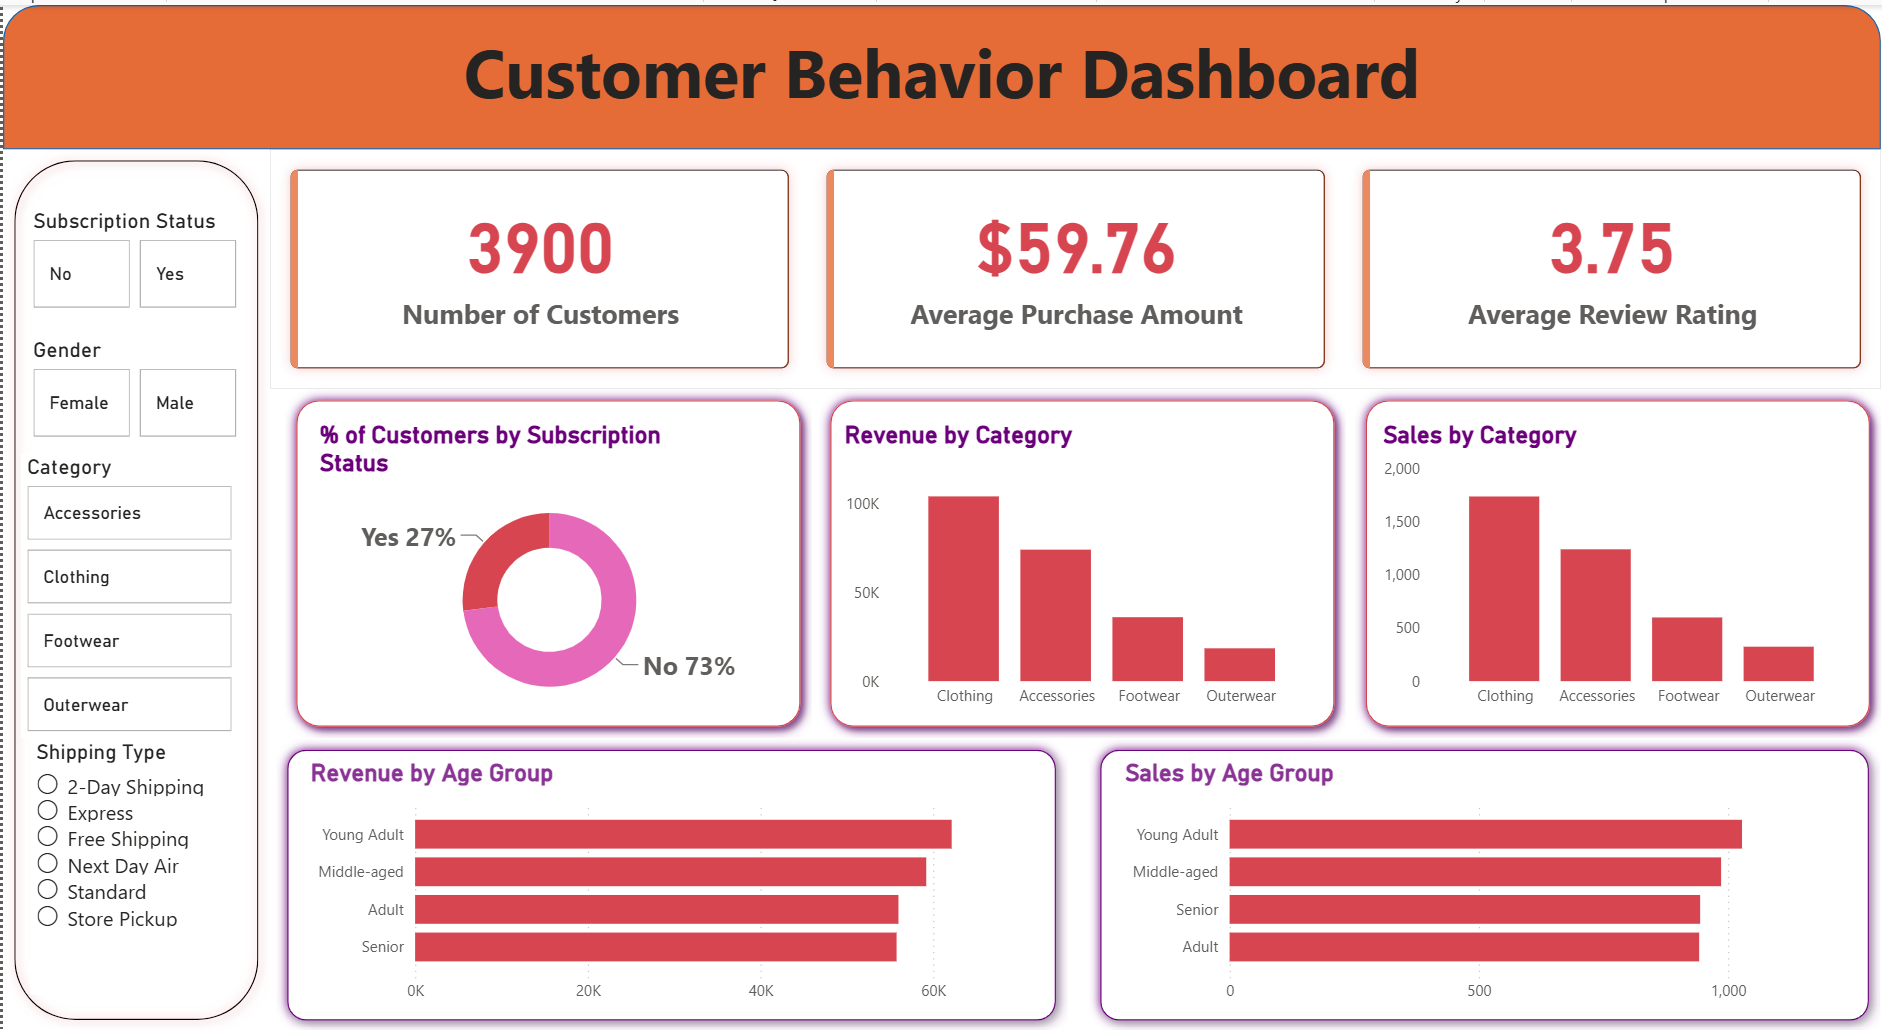

What the dashboard file says about the page in this screenshot:
{"tool":"powerbi","page":{"name":"Page 1","canvas":[1500,820],"ordinal":0},"visuals":[{"type":"cardVisual","fields":{"Data":["public customer.Number of Customers","public customer.Average Purchase Amount","public customer.Average Review Rating"]},"box":[212.9,115.3,1286.5,191.6],"z":2000},{"type":"shape","box":[218.3,585.6,631.7,234.2],"z":2500,"group":"g1"},{"type":"shape","box":[0,0,1499.4,115.3],"z":3000},{"type":"textbox","box":[0,12.4,1499.4,102.9],"z":4000},{"type":"shape","box":[225.4,307,420.5,278.6],"z":5000},{"type":"donutChart","title":"% of Customers by Subscription Status","fields":{"Category":["public customer.subscription_status"],"Y":["CountNonNull(public customer.customer_id)"]},"box":[248.4,331.8,376.2,237.8],"z":6000},{"type":"shape","box":[1078.9,307,420.5,278.6],"z":7000},{"type":"shape","box":[652.1,307,420.5,278.6],"z":8000},{"type":"clusteredColumnChart","title":"Revenue by Category","fields":{"Category":["public customer.category"],"Y":["Sum(public customer.purchase_amount)"]},"box":[667.2,331.8,385.1,237.8],"z":9000},{"type":"clusteredColumnChart","title":"Sales by Category","fields":{"Category":["public customer.category"],"Y":["CountNonNull(public customer.customer_id)"]},"box":[1096.6,331.8,385.1,237.8],"z":10000},{"type":"shape","box":[0,115.3,212.9,704.5],"z":11000},{"type":"advancedSlicerVisual","fields":{"Values":["public customer.subscription_status"]},"box":[19.5,161.5,173.9,85.2],"z":12000},{"type":"advancedSlicerVisual","fields":{"Values":["public customer.gender"]},"box":[19.5,264.4,173.9,85.2],"z":13000},{"type":"advancedSlicerVisual","fields":{"Values":["public customer.category"]},"box":[14.4,358.1,173.7,227.6],"z":14000},{"type":"listSlicer","fields":{"Values":["public customer.shipping_type"]},"box":[21.6,585.7,160.5,204.8],"z":15000},{"type":"shape","box":[867.7,585.6,631.7,234.2],"z":16000},{"type":"clusteredBarChart","title":"Sales by Age Group","fields":{"Category":["public customer.age_group"],"Y":["CountNonNull(public customer.customer_id)"]},"box":[890.8,601.5,585.6,204.1],"z":17000},{"type":"clusteredBarChart","title":"Revenue by Age Group","fields":{"Category":["public customer.age_group"],"Y":["Sum(public customer.purchase_amount)"]},"box":[241.4,601.6,585.6,204.1],"z":17500,"group":"g1"},{"type":"group","id":"g1","title":"Group 1","box":[218.3,585.6,631.7,234.2],"z":17501}]}

Visuals, with their boxes in screenshot pixels (x1, y1, x2, y2), scaled from the page's 1500x820 canvas onto the 1882x1030 screenshot:
cardVisual - public customer.Number of Customers x public customer.Average Purchase Amount: locate(267, 145, 1881, 385)
shape: locate(274, 736, 1066, 1029)
shape: locate(0, 0, 1881, 145)
textbox: locate(0, 16, 1881, 145)
shape: locate(283, 386, 810, 736)
"% of Customers by Subscription Status" donutChart: locate(312, 417, 784, 715)
shape: locate(1354, 386, 1881, 736)
shape: locate(818, 386, 1346, 736)
"Revenue by Category" clusteredColumnChart: locate(837, 417, 1320, 715)
"Sales by Category" clusteredColumnChart: locate(1376, 417, 1859, 715)
shape: locate(0, 145, 267, 1029)
advancedSlicerVisual - public customer.subscription_status: locate(24, 203, 243, 310)
advancedSlicerVisual - public customer.gender: locate(24, 332, 243, 439)
advancedSlicerVisual - public customer.category: locate(18, 450, 236, 736)
listSlicer - public customer.shipping_type: locate(27, 736, 228, 993)
shape: locate(1089, 736, 1881, 1029)
"Sales by Age Group" clusteredBarChart: locate(1118, 756, 1852, 1012)
"Revenue by Age Group" clusteredBarChart: locate(303, 756, 1038, 1012)
"Group 1" group: locate(274, 736, 1066, 1029)
